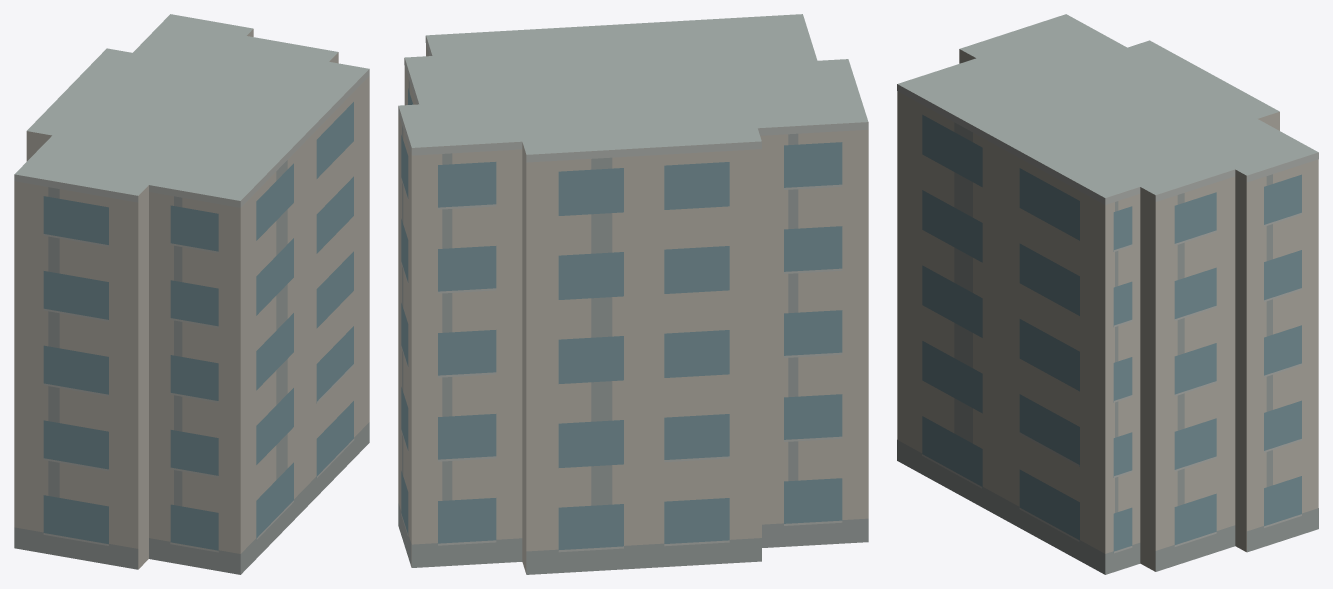
File: residential-83f534c2-bbf5-4e75-aafb-d6ea8969bbe2.glb
3 views of the same model, side by side, from view 1: azimuth 30°, elevation 25°; view 2: azimuth 150°, elevation 25°; view 3: azimuth 270°, elevation 25° (orthographic). The views are drawn at different scales.
Visible parts, largest first — view 1: residential-83f534c2-bbf5-4e75-aafb-d6ea8969bbe2.tmp; view 2: residential-83f534c2-bbf5-4e75-aafb-d6ea8969bbe2.tmp; view 3: residential-83f534c2-bbf5-4e75-aafb-d6ea8969bbe2.tmp.
Boxes of the visible parts, x1,y1,x2,y2 form: residential-83f534c2-bbf5-4e75-aafb-d6ea8969bbe2.tmp: [14, 14, 369, 574]; residential-83f534c2-bbf5-4e75-aafb-d6ea8969bbe2.tmp: [398, 14, 868, 574]; residential-83f534c2-bbf5-4e75-aafb-d6ea8969bbe2.tmp: [897, 14, 1318, 574].
Bounding box in the file's own units: 13.9 × 13.25 × 13.45.
